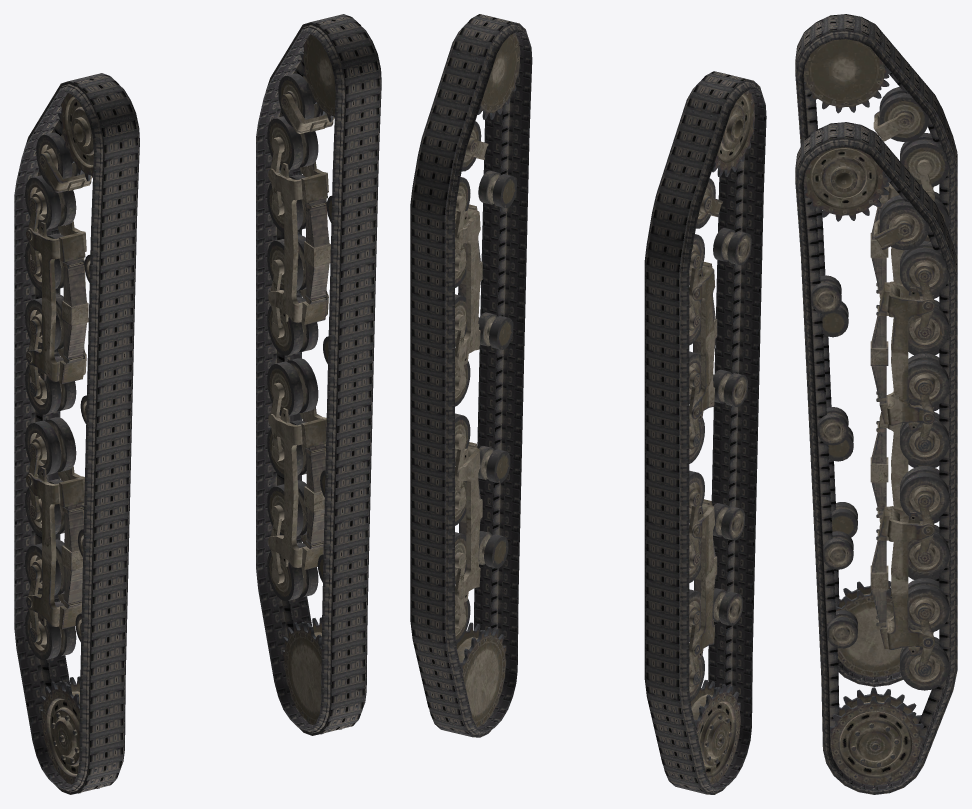
The model's file is Chassis.glb.
3 views of the same model, side by side, from view 1: azimuth 30°, elevation 25°; view 2: azimuth 150°, elevation 25°; view 3: azimuth 270°, elevation 25° (orthographic). The views are drawn at different scales.
Parts seen in each view (by area): view 1: set_2_group_0, set_3_group_0, set_1_group_0, set_0_group_0; view 2: set_3_group_0, set_2_group_0, set_1_group_0, set_0_group_0; view 3: set_0_group_0, set_2_group_0, set_1_group_0, set_3_group_0.
Boxes of the visible parts, box(x1,y1,x2,y2) form: set_2_group_0: box(256, 14, 381, 735); set_3_group_0: box(14, 73, 139, 794); set_1_group_0: box(25, 75, 121, 793); set_0_group_0: box(267, 16, 363, 734); set_3_group_0: box(644, 71, 766, 794); set_2_group_0: box(410, 14, 532, 737); set_1_group_0: box(671, 73, 754, 789); set_0_group_0: box(437, 18, 519, 732); set_0_group_0: box(803, 125, 949, 785); set_2_group_0: box(795, 122, 957, 794); set_1_group_0: box(803, 17, 949, 677); set_3_group_0: box(795, 14, 957, 686).
Size of the model in its own units: 2.18 by 5.19 by 1.16.
Materials: 4 (4 with a texture image).
